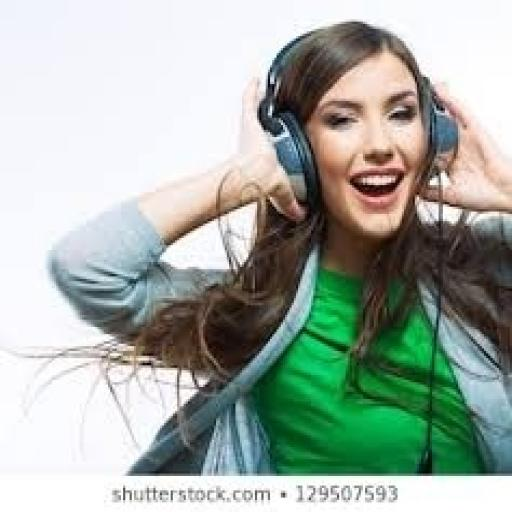listening_to_music: (43, 17, 510, 476), (255, 22, 462, 212)
